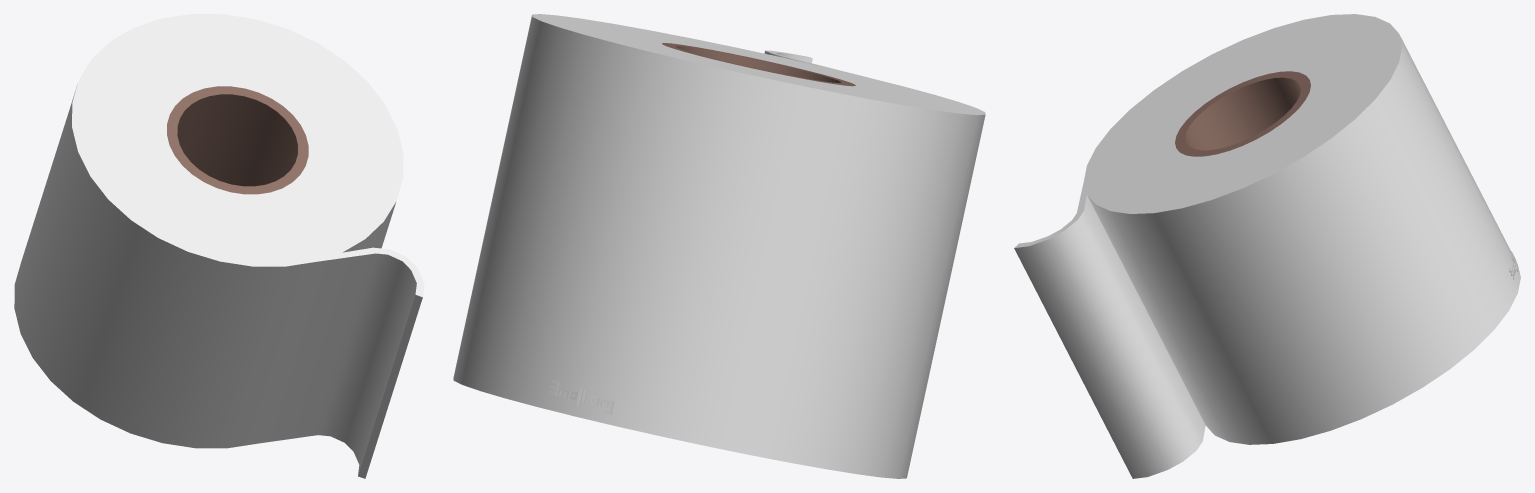
File: roll_of_paper.fbx
3 renders of one model, left to right at view 1: azimuth 30°, elevation 25°; view 2: azimuth 150°, elevation 25°; view 3: azimuth 270°, elevation 25°, orthographic. The views are drawn at different scales.
Parts seen in each view (by area): view 1: Cylinder.514; view 2: Cylinder.514; view 3: Cylinder.514.
Part boxes in pixels (x1=…): Cylinder.514: x1=14, y1=14, x2=424, y2=478; Cylinder.514: x1=453, y1=14, x2=985, y2=478; Cylinder.514: x1=1014, y1=14, x2=1520, y2=478.
Bounding box in the file's own units: 169 × 210 × 244.
Materials: 1 (1 with a texture image).
